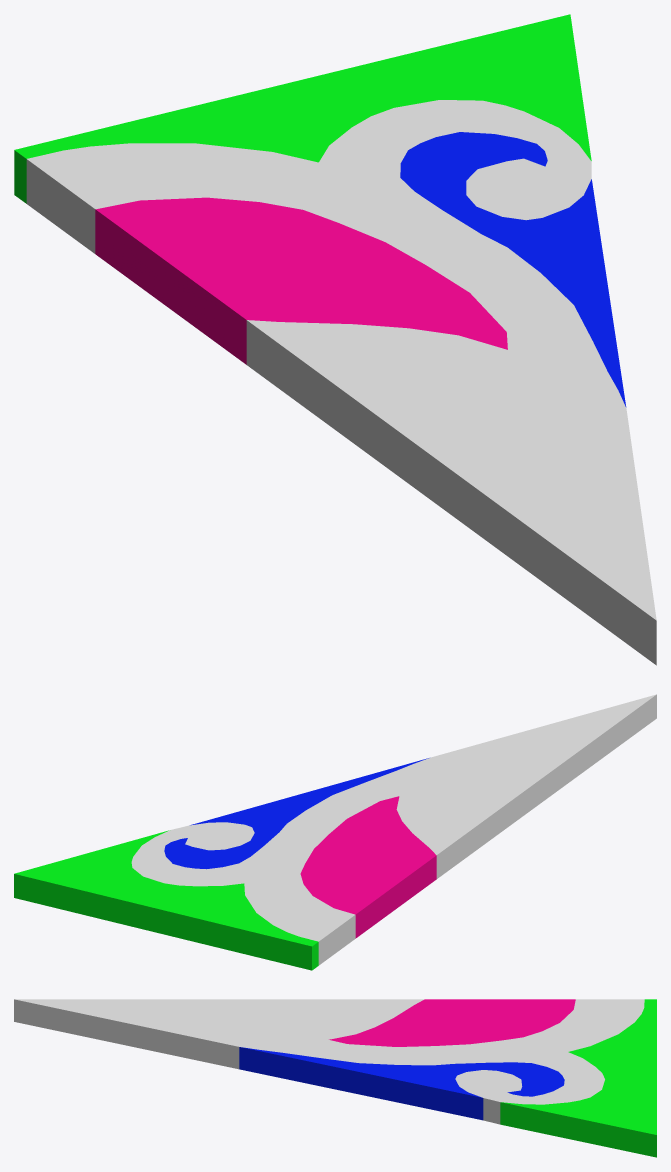
The model's file is kartane2.fbx.
The picture shows the model from 3 angles, top to bottom: view 1: azimuth 30°, elevation 25°; view 2: azimuth 150°, elevation 25°; view 3: azimuth 270°, elevation 25°; orthographic projection. The views are drawn at different scales.
Parts seen in each view (by area): view 1: Cube.066, Cube.067, Cube.069, Cube.070; view 2: Cube.066, Cube.069, Cube.067, Cube.070; view 3: Cube.066, Cube.069, Cube.070, Cube.067.
Boxes of the visible parts, box(x1,y1,x2,y2) form: Cube.066: box(26, 100, 656, 665); Cube.067: box(95, 197, 507, 364); Cube.069: box(14, 14, 591, 203); Cube.070: box(400, 132, 626, 407); Cube.066: box(131, 694, 656, 965); Cube.069: box(14, 830, 318, 970); Cube.067: box(300, 796, 436, 938); Cube.070: box(164, 758, 428, 869); Cube.066: box(14, 999, 644, 1124); Cube.069: box(500, 999, 656, 1157); Cube.070: box(239, 1047, 564, 1120); Cube.067: box(329, 999, 575, 1046).
Size of the model in its own units: 100 by 50.04 by 3.87.
